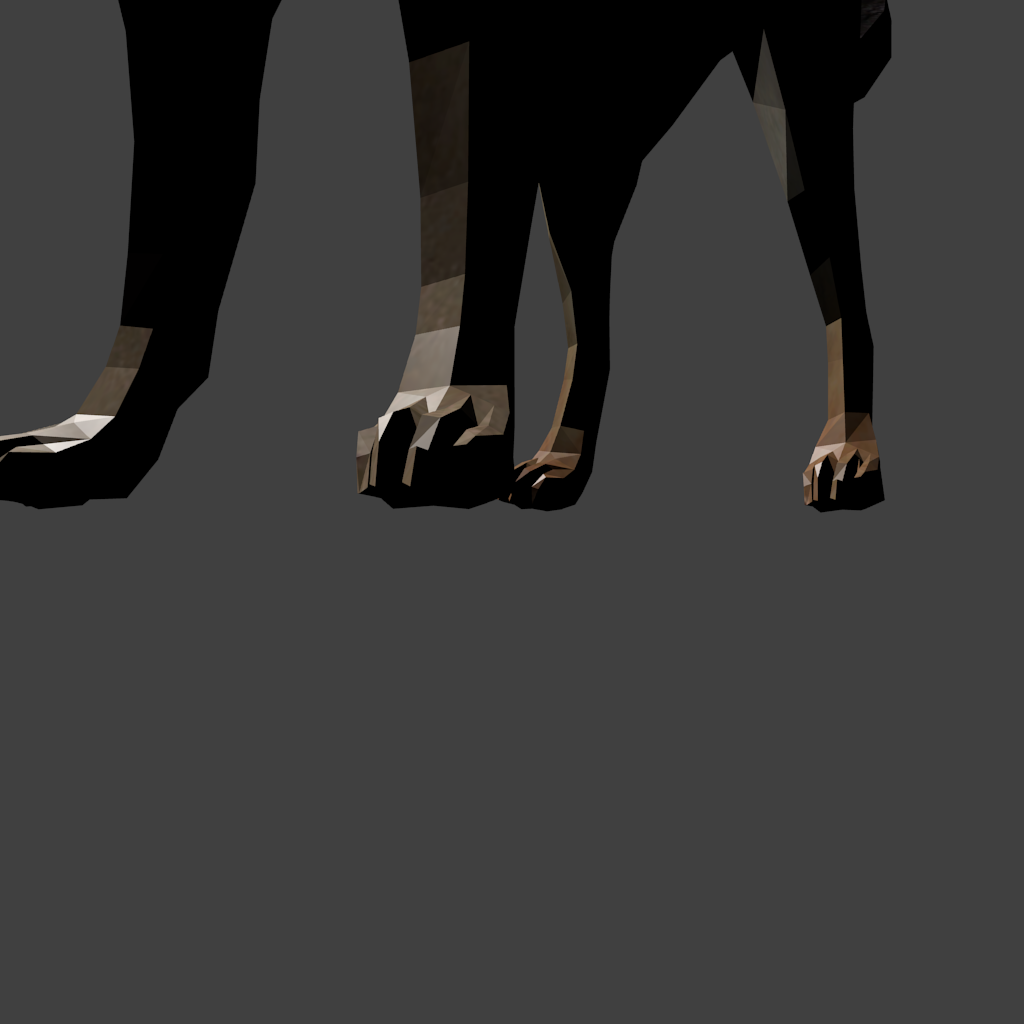Dog: (0, 0, 1024, 1024), (0, 0, 892, 513)
